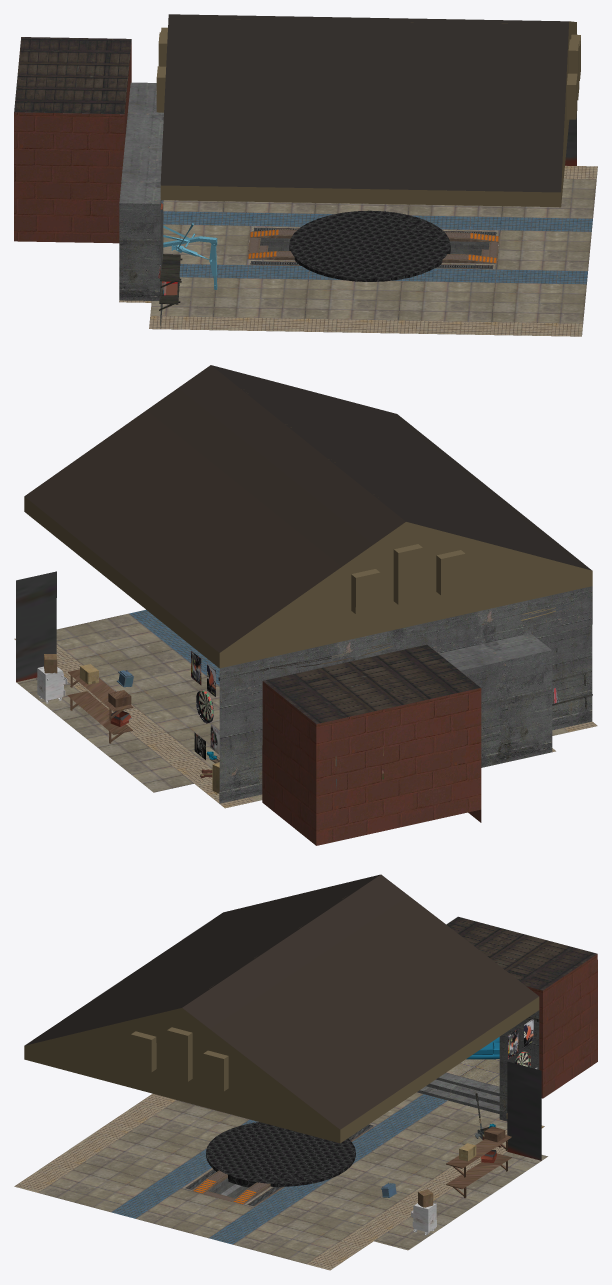
File: garage.fbx
3 views of the same model, one above another, from view 1: azimuth 30°, elevation 25°; view 2: azimuth 150°, elevation 25°; view 3: azimuth 270°, elevation 25° (orthographic). The views are drawn at different scales.
Parts seen in each view (by area): view 1: mesh_9_250.nr, mesh_9_230.nr, mesh_9_234.nr, mesh_22_318.nr, mesh_9_226.nr, mesh_9_239.nr, mesh_9_233.nr, mesh_9_243.nr; view 2: mesh_9_250.nr, mesh_9_234.nr, mesh_9_230.nr, mesh_9_243.nr, mesh_9_255.nr, mesh_9_238.nr; view 3: mesh_9_250.nr, mesh_9_230.nr, mesh_9_234.nr, mesh_22_318.nr, mesh_9_243.nr, mesh_9_251.nr, mesh_9_255.nr, mesh_9_226.nr, mesh_9_238.nr.
Part boxes in pixels (box(x1,y1,x2,y2)): mesh_9_250.nr: box(156, 14, 580, 207); mesh_9_230.nr: box(119, 165, 597, 336); mesh_9_234.nr: box(14, 37, 163, 328); mesh_22_318.nr: box(289, 210, 450, 281); mesh_9_226.nr: box(247, 229, 499, 263); mesh_9_239.nr: box(163, 223, 217, 289); mesh_9_233.nr: box(159, 254, 182, 310); mesh_9_243.nr: box(565, 114, 576, 165); mesh_9_250.nr: box(24, 365, 592, 668); mesh_9_234.nr: box(219, 586, 592, 845); mesh_9_230.nr: box(14, 609, 597, 808); mesh_9_243.nr: box(16, 571, 56, 681); mesh_9_255.nr: box(67, 669, 133, 743); mesh_9_238.nr: box(37, 666, 67, 703); mesh_9_250.nr: box(24, 874, 539, 1143); mesh_9_230.nr: box(14, 1059, 547, 1270); mesh_9_234.nr: box(446, 916, 597, 1121); mesh_22_318.nr: box(206, 1122, 355, 1187); mesh_9_243.nr: box(507, 1061, 541, 1160); mesh_9_251.nr: box(417, 1073, 499, 1113); mesh_9_255.nr: box(446, 1135, 511, 1197); mesh_9_226.nr: box(192, 1170, 270, 1204); mesh_9_238.nr: box(411, 1202, 436, 1235).
Size of the model in its own units: 243 by 121 by 257.
2 materials, 2 textured.
